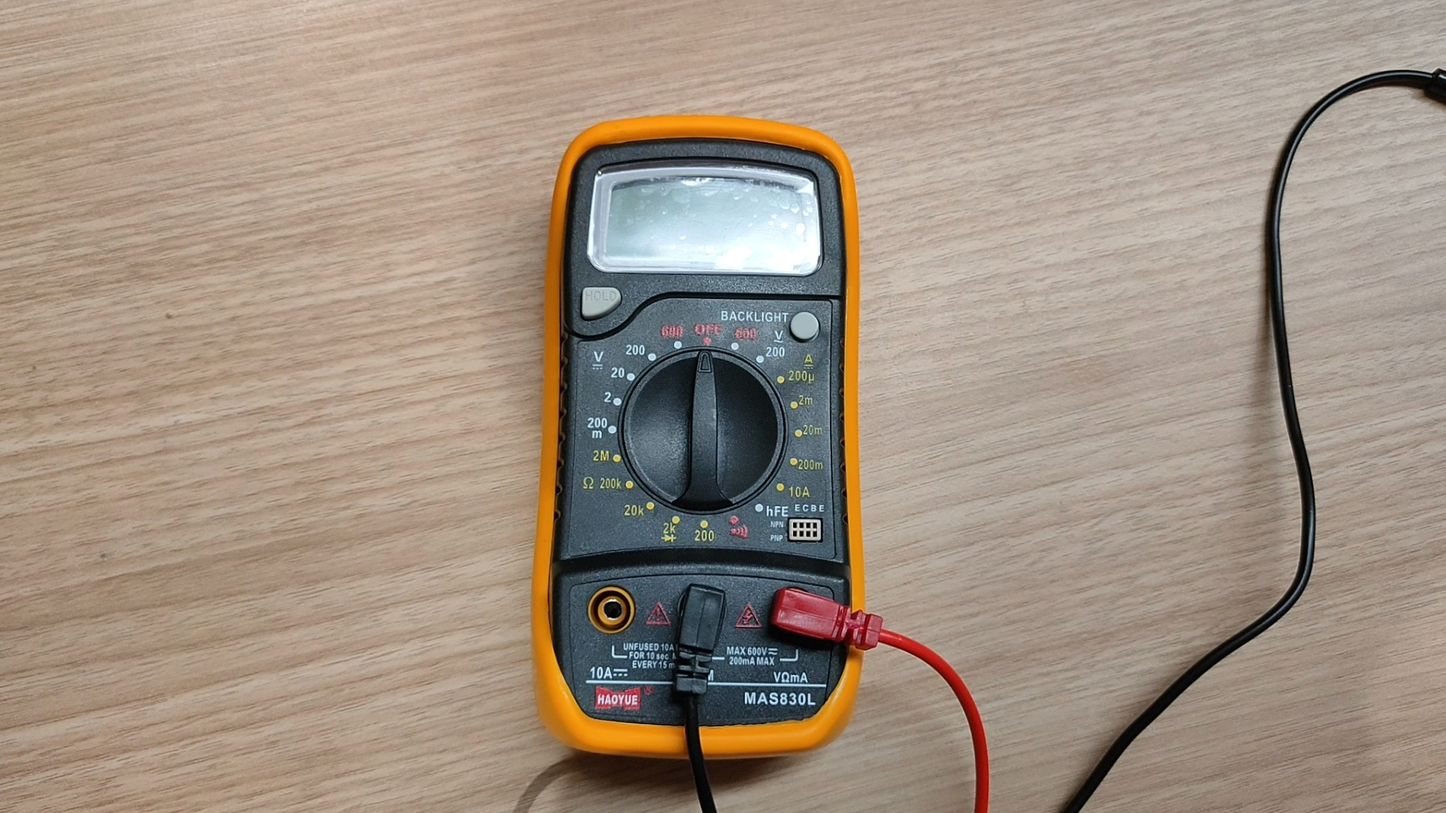multimeter: (531, 116, 882, 762)
